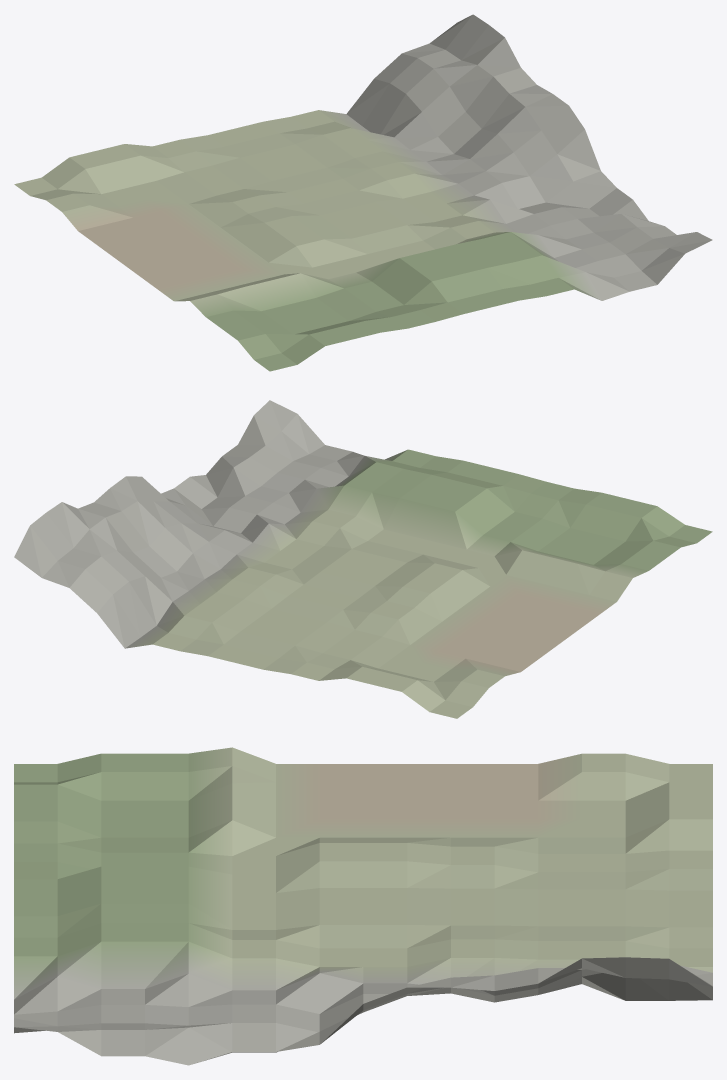
3 renders of one model, top to bottom at view 1: azimuth 30°, elevation 25°; view 2: azimuth 150°, elevation 25°; view 3: azimuth 270°, elevation 25°, orthographic. The views are drawn at different scales.
Bounding box in the file's own units: 32 × 5.93 × 32.
